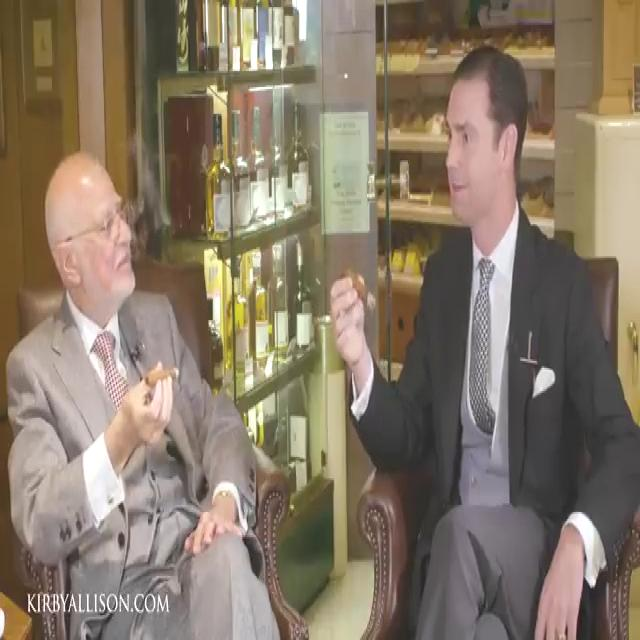Smooking: (348, 262, 383, 318), (142, 354, 182, 391)
